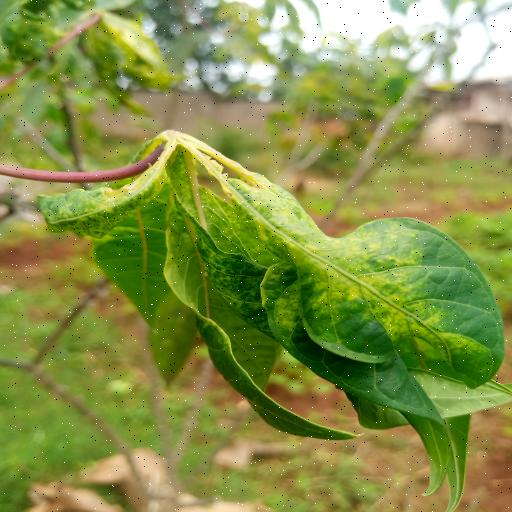Cassava_Mosaic: (36, 130, 512, 506)
